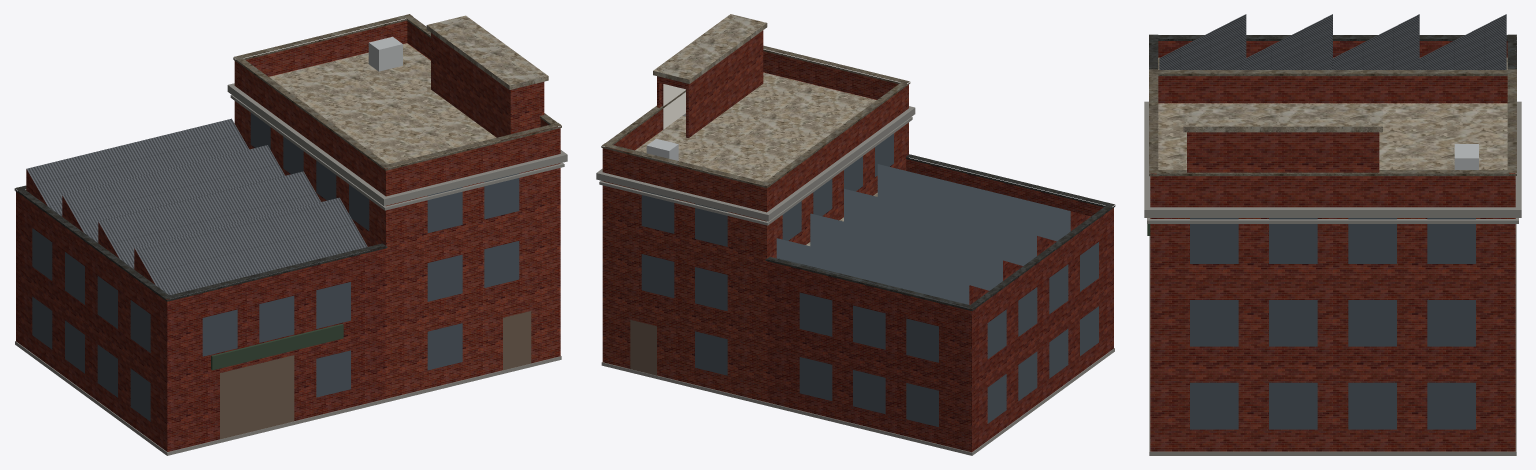
File: mh-sawtooth-works.zfix-v22.lod1.glb
3 renders of one model, left to right at view 1: azimuth 30°, elevation 25°; view 2: azimuth 150°, elevation 25°; view 3: azimuth 270°, elevation 25°, orthographic. The views are drawn at different scales.
Parts seen in each view (by area): view 1: mh-sawtooth-works; view 2: mh-sawtooth-works; view 3: mh-sawtooth-works.
Part boxes in pixels (x1=…): mh-sawtooth-works: x1=14, y1=14, x2=567, y2=455; mh-sawtooth-works: x1=596, y1=14, x2=1115, y2=455; mh-sawtooth-works: x1=1144, y1=14, x2=1521, y2=455.
Size of the model in its own units: 18.25 by 11.95 by 12.4.
Materials: 4 (3 with a texture image).
